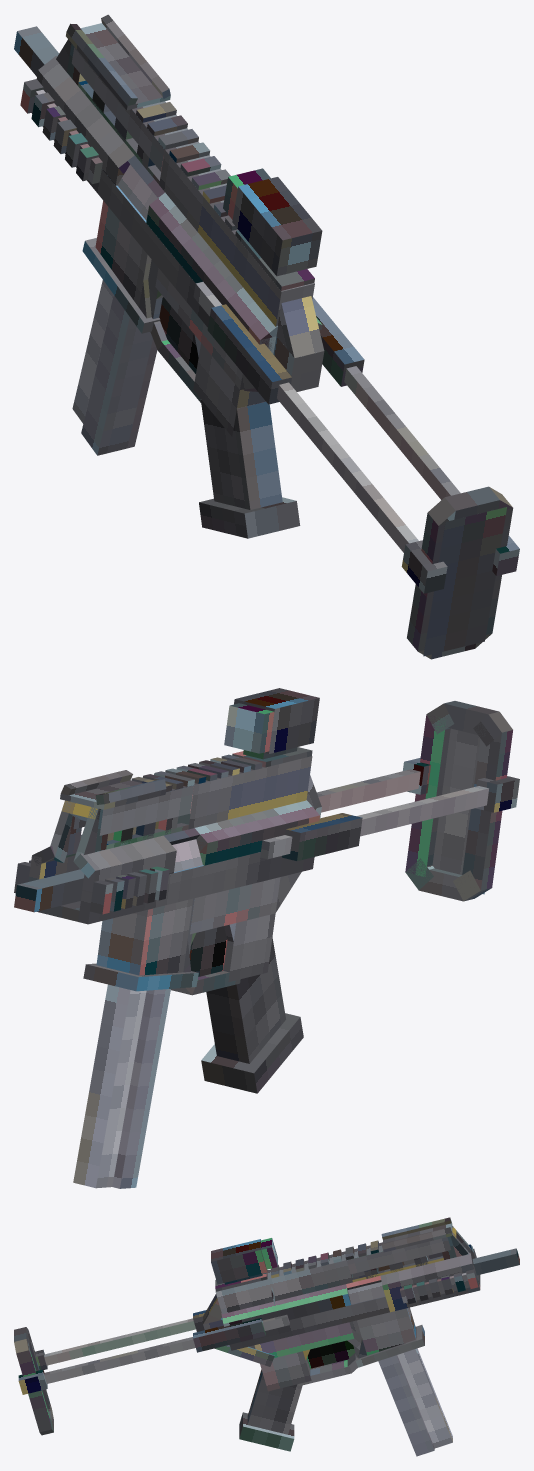
3 views of the same model, one above another, from view 1: azimuth 30°, elevation 25°; view 2: azimuth 150°, elevation 25°; view 3: azimuth 270°, elevation 25° (orthographic). The views are drawn at different scales.
Parts seen in each view (by area): view 1: _gltfNode_31, _gltfNode_203, _gltfNode_100, _gltfNode_190, _gltfNode_38, _gltfNode_3, _gltfNode_48, _gltfNode_7, _gltfNode_54, _gltfNode_5, _gltfNode_102, _gltfNode_80 (+26 smaller); view 2: _gltfNode_201, _gltfNode_80, _gltfNode_100, _gltfNode_190, _gltfNode_203, _gltfNode_54, _gltfNode_23, _gltfNode_15, _gltfNode_3, _gltfNode_102, _gltfNode_84, _gltfNode_38 (+28 smaller); view 3: _gltfNode_190, _gltfNode_76, _gltfNode_201, _gltfNode_5, _gltfNode_205, _gltfNode_100, _gltfNode_80, _gltfNode_3, _gltfNode_38, _gltfNode_84, _gltfNode_172, _gltfNode_13 (+22 smaller).
Part boxes in pixels (x1,y1,x2,y2): _gltfNode_31: (423, 507, 506, 656); _gltfNode_203: (81, 295, 152, 455); _gltfNode_100: (200, 399, 282, 509); _gltfNode_190: (159, 141, 314, 326); _gltfNode_38: (232, 177, 322, 276); _gltfNode_3: (193, 282, 418, 552); _gltfNode_48: (149, 192, 277, 350); _gltfNode_7: (207, 304, 291, 404); _gltfNode_54: (31, 112, 209, 327); _gltfNode_5: (344, 366, 460, 499); _gltfNode_102: (199, 497, 300, 538); _gltfNode_80: (95, 200, 151, 307); _gltfNode_201: (73, 984, 146, 1188); _gltfNode_80: (96, 898, 192, 975); _gltfNode_100: (206, 937, 285, 1063); _gltfNode_190: (177, 756, 312, 829); _gltfNode_203: (112, 989, 170, 1188); _gltfNode_54: (78, 852, 314, 924); _gltfNode_23: (432, 728, 480, 874); _gltfNode_15: (462, 730, 512, 890); _gltfNode_3: (260, 786, 488, 859); _gltfNode_102: (201, 1013, 303, 1093); _gltfNode_84: (190, 877, 280, 934); _gltfNode_38: (234, 688, 319, 753); _gltfNode_190: (215, 1251, 352, 1313); _gltfNode_76: (229, 1296, 389, 1350); _gltfNode_201: (397, 1348, 452, 1448); _gltfNode_5: (44, 1314, 289, 1383); _gltfNode_205: (378, 1355, 434, 1456); _gltfNode_100: (247, 1369, 302, 1434); _gltfNode_80: (357, 1307, 415, 1355); _gltfNode_3: (44, 1318, 195, 1365); _gltfNode_38: (211, 1239, 267, 1284); _gltfNode_84: (254, 1322, 354, 1357); _gltfNode_172: (346, 1237, 450, 1274); _gltfNode_13: (193, 1318, 265, 1352).
Size of the model in its own units: 60.24 by 246 by 490.
